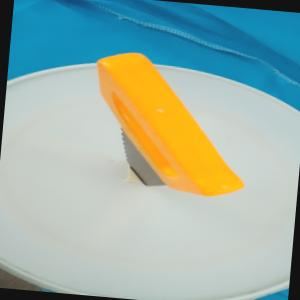serrote: (84, 49, 255, 200)
